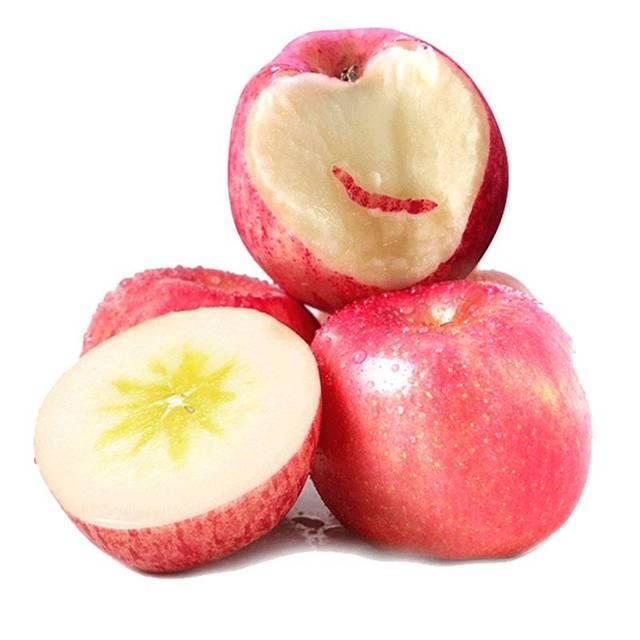apple: (227, 32, 513, 314), (31, 302, 321, 580), (311, 291, 593, 568)
